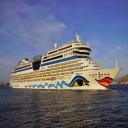cruises: (9, 32, 124, 92)
